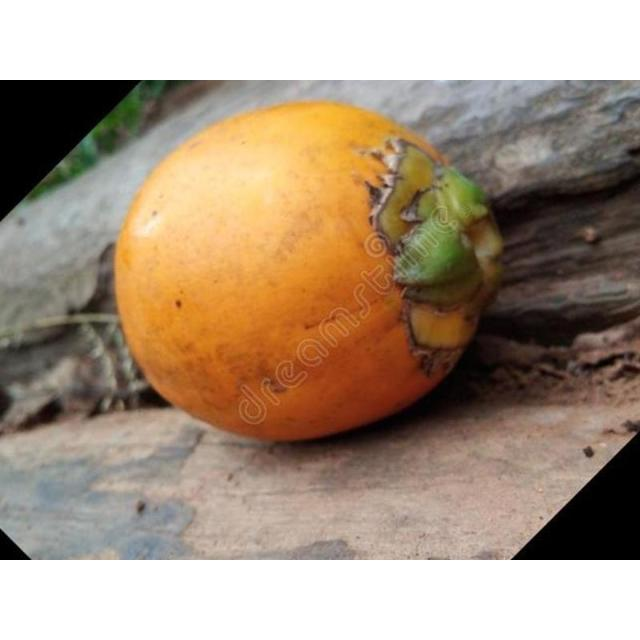good: (112, 100, 504, 445)
